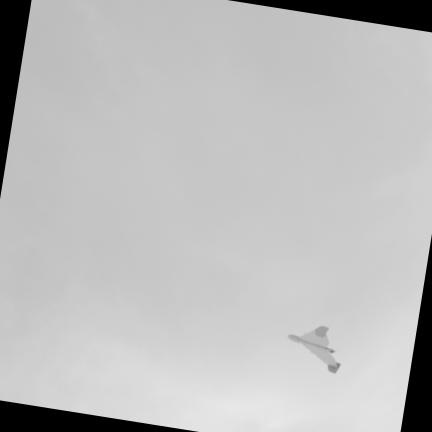Shahed: (288, 326, 340, 372)
